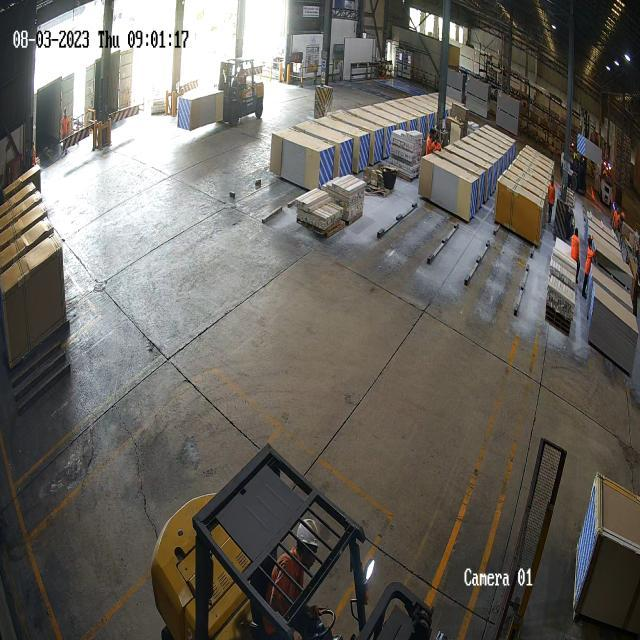driver: (268, 514, 320, 616)
forklift: (145, 433, 447, 640), (222, 52, 264, 130)
person: (583, 234, 593, 296), (570, 225, 581, 264), (548, 175, 555, 218), (426, 128, 433, 154), (62, 110, 68, 134), (434, 135, 441, 152)
